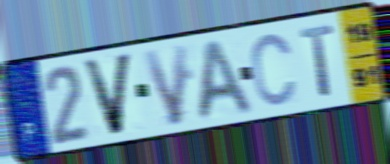2: (42, 62, 93, 148)
A: (195, 36, 256, 125)
C: (249, 30, 299, 109)
T: (297, 21, 337, 100)
V: (80, 50, 135, 139), (140, 40, 190, 130)
